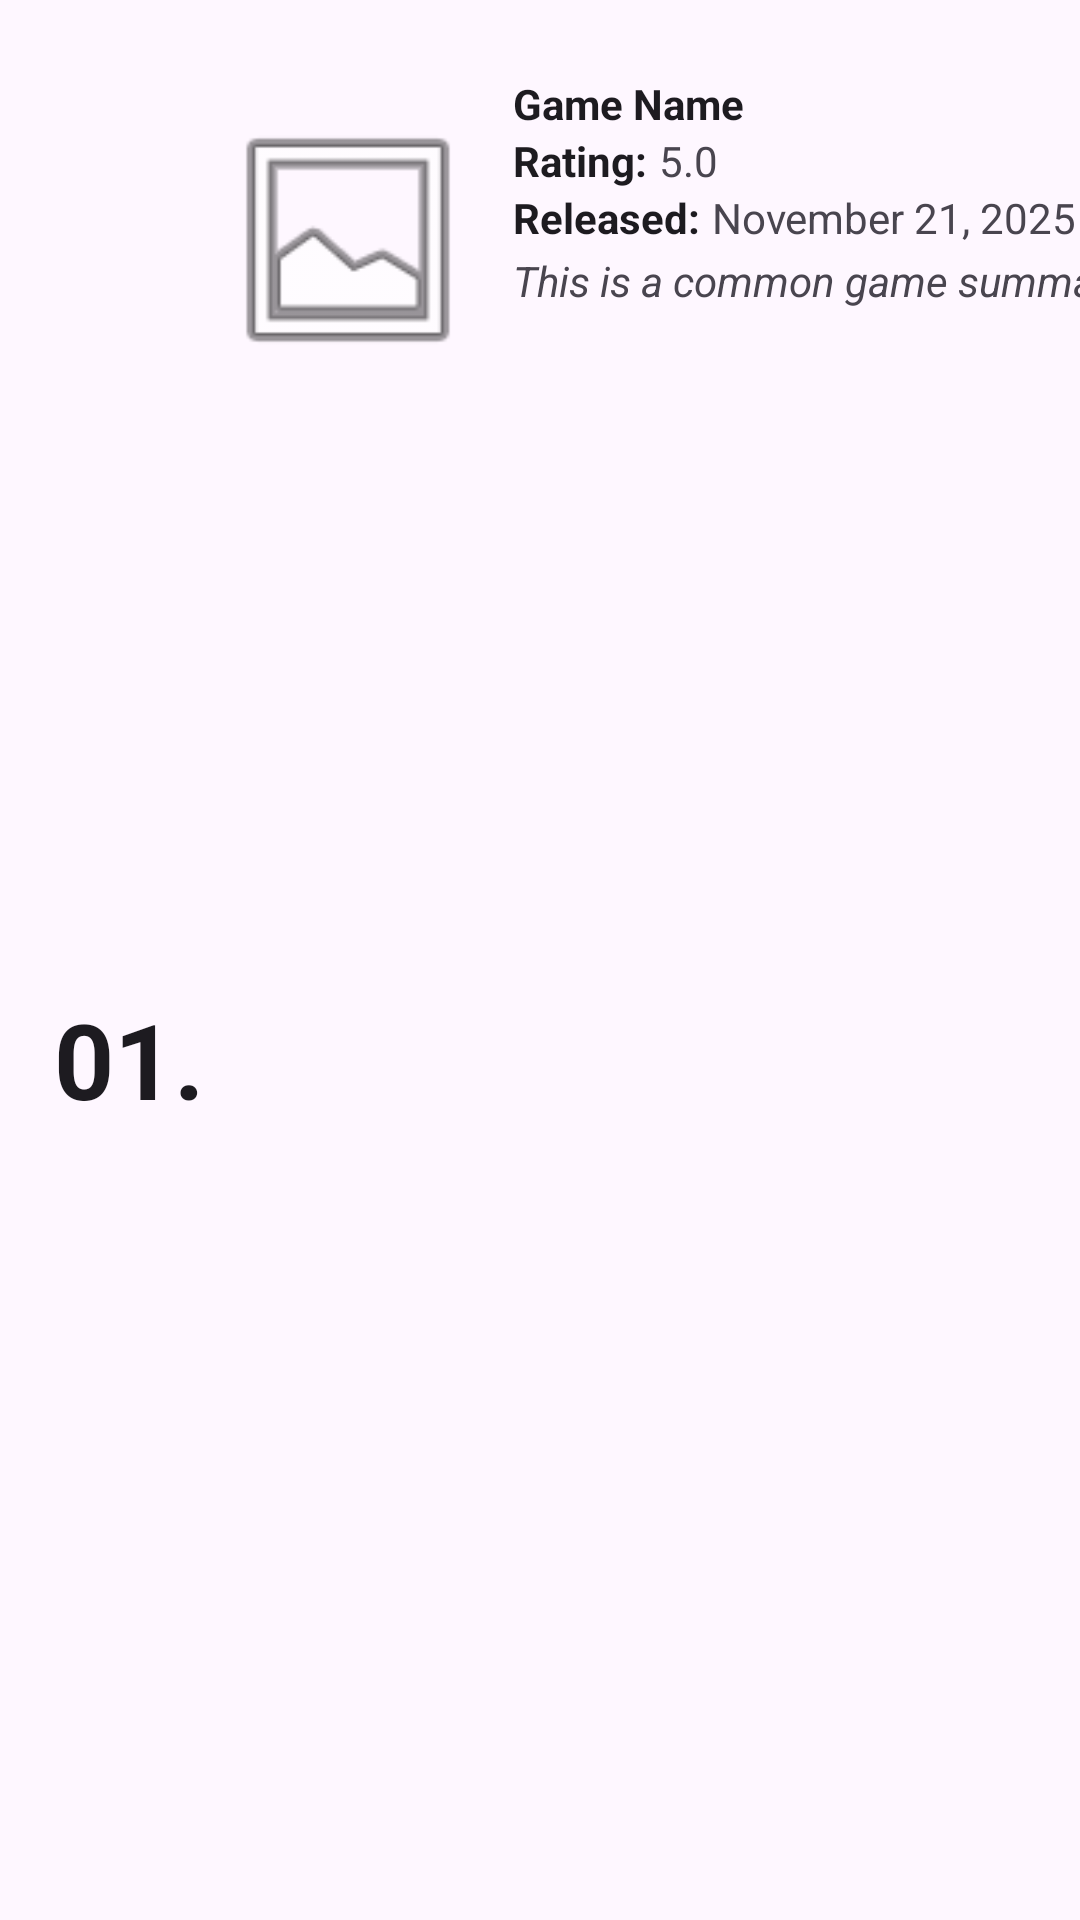

Icons on this 1080x1920 Android screen, each with its box as (x1, y1, x2, y2):
gallery: (246, 138, 450, 342)
